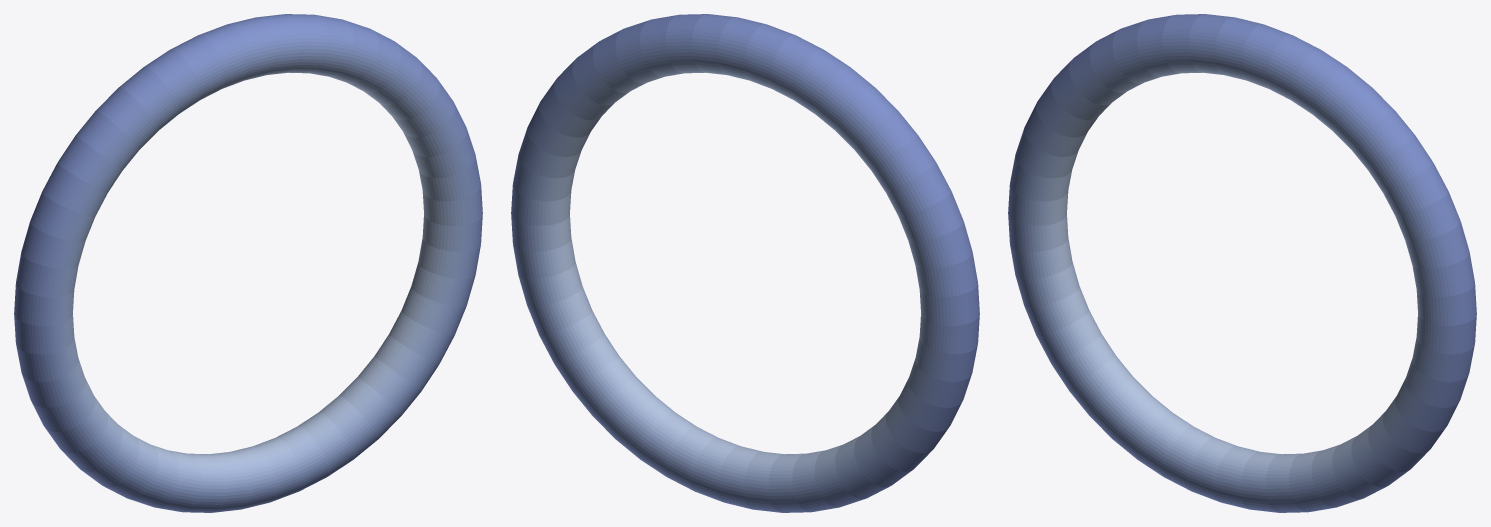
3 views of the same model, side by side, from view 1: azimuth 30°, elevation 25°; view 2: azimuth 150°, elevation 25°; view 3: azimuth 330°, elevation 25° (orthographic).
Visible parts, largest first — view 1: world; view 2: world; view 3: world.
Boxes of the visible parts, x1,y1,x2,y2 form: world: (14,14,482,512); world: (511,14,979,512); world: (1008,14,1476,512).
Size of the model in its own units: 27.73 by 27.68 by 3.06.
